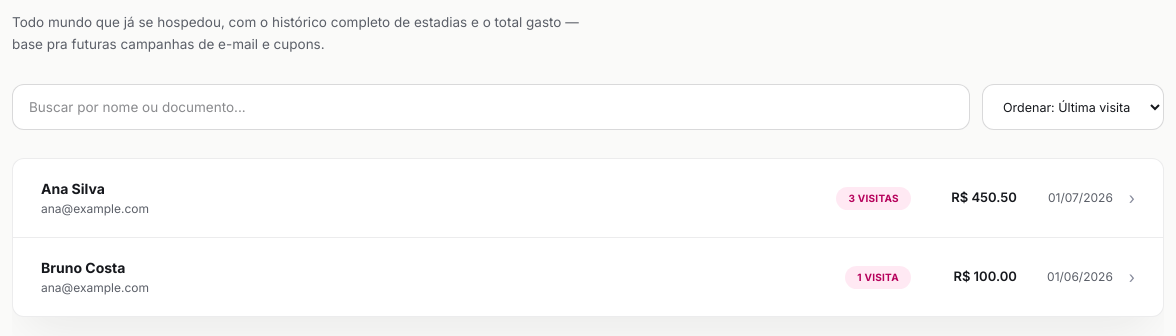
Scenario: CustomersPage › filters by search query (name or document)
Type "Bruno" into the field with placeholder "Buscar por nome ou documento..." at (491, 107), box [12,84,970,130]
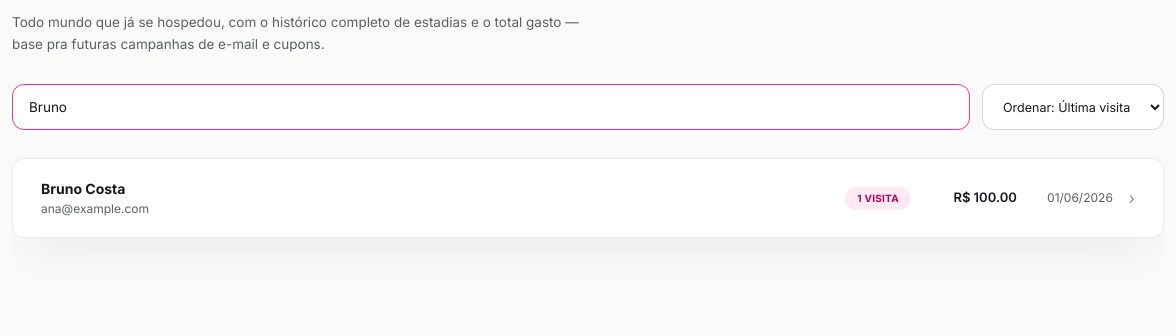
Expected: the text "Bruno Costa" is shown, [41,180,125,197]
Now the link "Ana Silva" is gone
